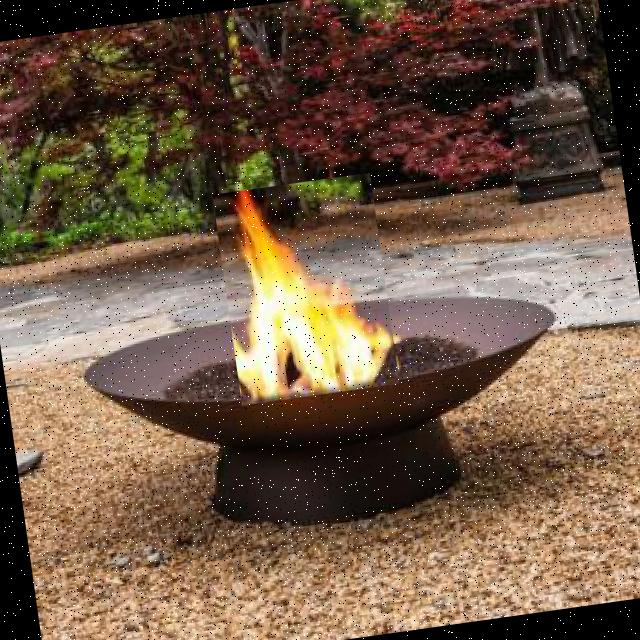fire: (212, 172, 400, 406)
